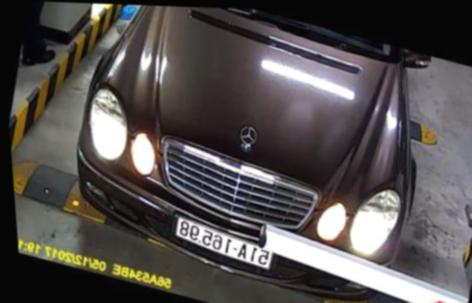License_Plate: (168, 215, 279, 275)
